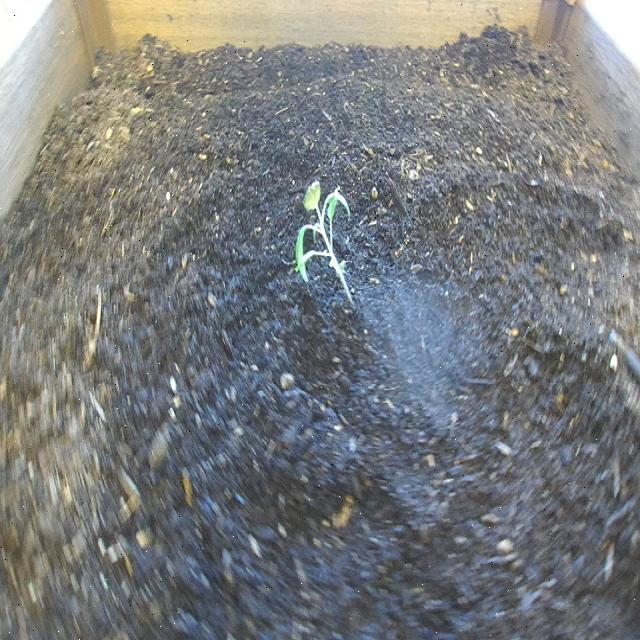Healthy: (290, 163, 368, 336)
